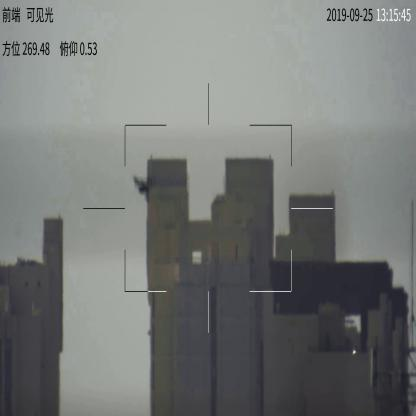uav: (134, 175, 154, 202)
